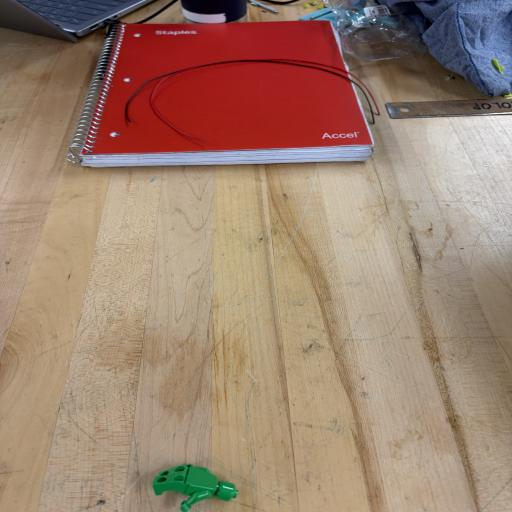Green-Lego: (152, 463, 239, 512)
